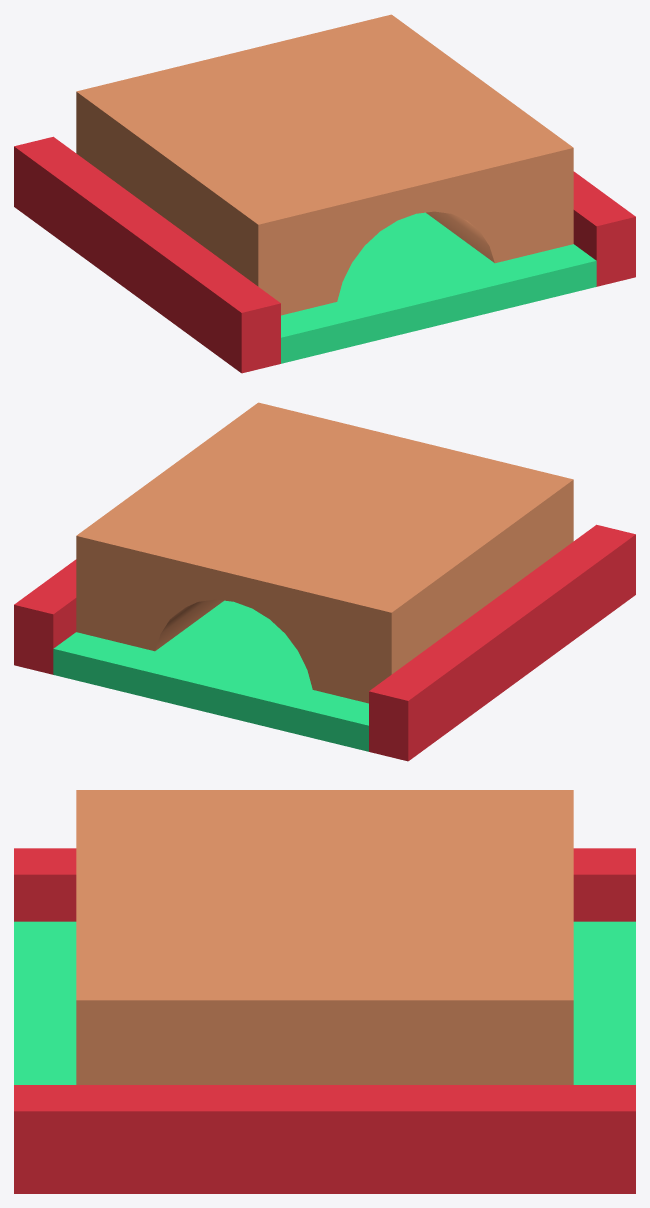
The model's file is tunnelWide.fbx.
The picture shows the model from 3 angles, top to bottom: view 1: azimuth 30°, elevation 25°; view 2: azimuth 150°, elevation 25°; view 3: azimuth 270°, elevation 25°; orthographic projection. The views are drawn at different scales.
Visible parts, largest first — view 1: tunnelWide; view 2: tunnelWide; view 3: tunnelWide.
Boxes of the visible parts, x1=… form: tunnelWide: x1=14, y1=14, x2=635, y2=373; tunnelWide: x1=14, y1=402, x2=635, y2=761; tunnelWide: x1=14, y1=790, x2=635, y2=1193.
Bounding box in the file's own units: 10 × 2.97 × 10.
